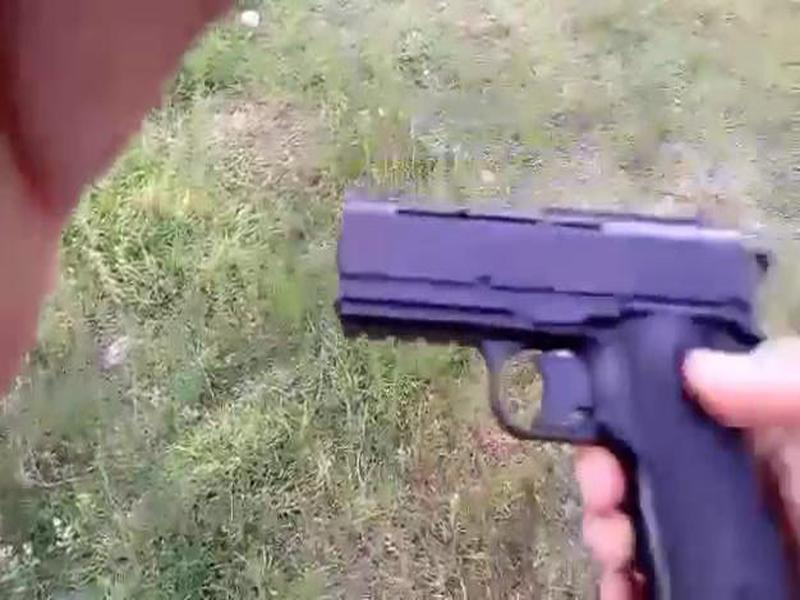Pistola: (261, 154, 783, 582)
